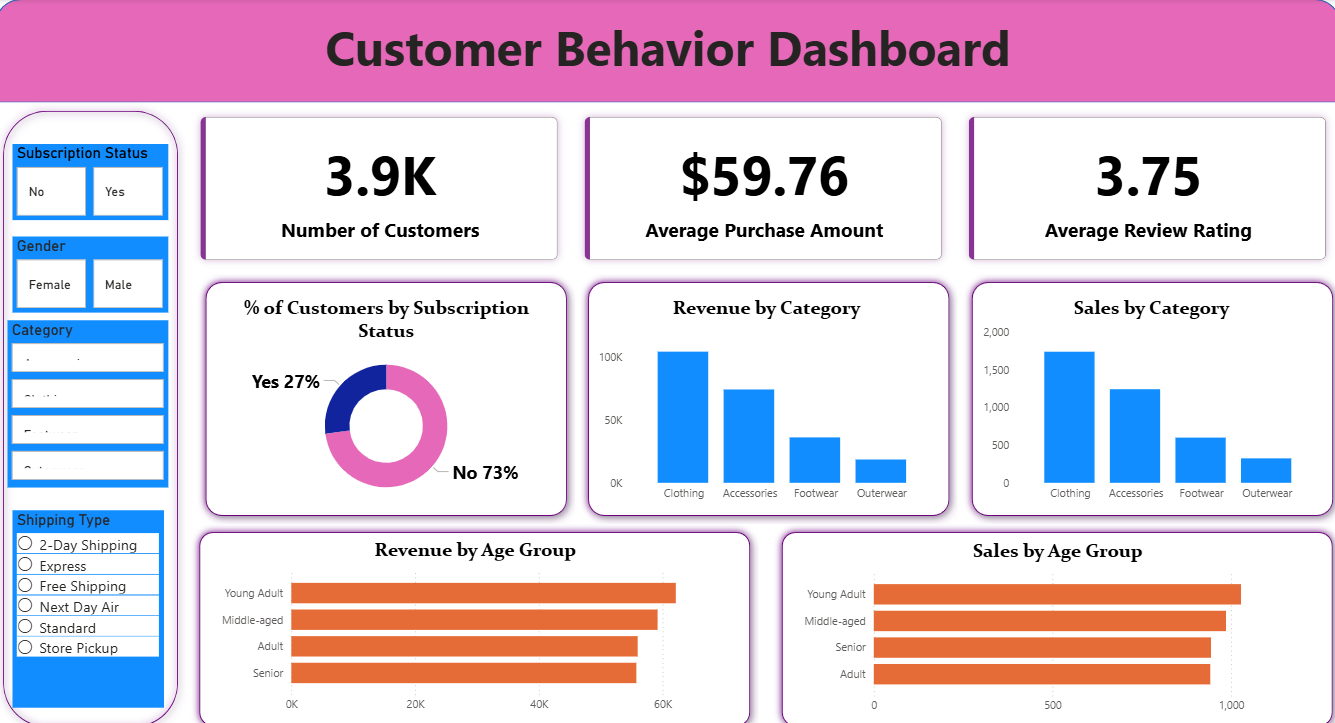

The page's visual inventory and layout, read from the dashboard file:
{"tool":"powerbi","page":{"name":"Page 1","canvas":[1500,820],"ordinal":0},"visuals":[{"type":"cardVisual","fields":{"Data":["public customer.Number of Customers","public customer.Average Purchase Amount","public customer.Average Review Rating"]},"box":[212.9,115.3,1286.5,191.6],"z":2000},{"type":"shape","box":[218.3,585.6,631.7,234.2],"z":2500,"group":"g1"},{"type":"shape","box":[0,0,1499.4,115.3],"z":3000},{"type":"textbox","box":[0,12.4,1499.4,102.9],"z":4000},{"type":"shape","box":[225.4,307,420.5,278.6],"z":5000},{"type":"donutChart","title":"% of Customers by Subscription Status","fields":{"Category":["public customer.subscription_status"],"Y":["Sum(public customer.customer_id)"]},"box":[248.4,331.8,376.2,237.8],"z":6000},{"type":"shape","box":[1078.9,307,420.5,278.6],"z":7000},{"type":"shape","box":[652.1,307,420.5,278.6],"z":8000},{"type":"clusteredColumnChart","title":"Revenue by Category","fields":{"Y":["Sum(public customer.purchase_amount)"],"Category":["public customer.category"]},"box":[667.2,331.8,385.1,237.8],"z":9000},{"type":"clusteredColumnChart","title":"Sales by Category","fields":{"Y":["Sum(public customer.customer_id)"],"Category":["public customer.category"]},"box":[1096.6,331.8,385.1,237.8],"z":10000},{"type":"shape","box":[0,115.3,212.9,704.5],"z":11000},{"type":"advancedSlicerVisual","fields":{"Values":["public customer.subscription_status"]},"box":[19.5,161.5,173.9,85.2],"z":12000},{"type":"advancedSlicerVisual","fields":{"Values":["public customer.gender"]},"box":[19.5,264.4,173.9,85.2],"z":13000},{"type":"advancedSlicerVisual","fields":{"Values":["public customer.category"]},"box":[14.2,358.4,179.2,186.3],"z":14000},{"type":"listSlicer","fields":{"Values":["public customer.shipping_type"]},"box":[19.5,569.6,168.6,220],"z":15000},{"type":"shape","box":[867.7,585.6,631.7,234.2],"z":16000},{"type":"clusteredBarChart","title":"Sales by Age Group","fields":{"Y":["Sum(public customer.customer_id)"],"Category":["public customer.age_group"]},"box":[890.8,601.5,585.6,204.1],"z":17000},{"type":"clusteredBarChart","title":"Revenue by Age Group","fields":{"Y":["Sum(public customer.purchase_amount)"],"Category":["public customer.age_group"]},"box":[241.4,601.6,585.6,204.1],"z":17500,"group":"g1"},{"type":"group","id":"g1","title":"Group 1","box":[218.3,585.6,631.7,234.2],"z":17501}]}

Visuals, with their boxes in screenshot pixels (x1, y1, x2, y2), scaled from the page's 1500x820 canvas onto the 1335x723 screenshot:
cardVisual - public customer.Number of Customers x public customer.Average Purchase Amount: x1=189 y1=102 x2=1334 y2=271
shape: x1=194 y1=516 x2=756 y2=722
shape: x1=0 y1=0 x2=1334 y2=102
textbox: x1=0 y1=11 x2=1334 y2=102
shape: x1=201 y1=271 x2=575 y2=516
"% of Customers by Subscription Status" donutChart: x1=221 y1=293 x2=556 y2=502
shape: x1=960 y1=271 x2=1334 y2=516
shape: x1=580 y1=271 x2=955 y2=516
"Revenue by Category" clusteredColumnChart: x1=594 y1=293 x2=937 y2=502
"Sales by Category" clusteredColumnChart: x1=976 y1=293 x2=1319 y2=502
shape: x1=0 y1=102 x2=189 y2=722
advancedSlicerVisual - public customer.subscription_status: x1=17 y1=142 x2=172 y2=218
advancedSlicerVisual - public customer.gender: x1=17 y1=233 x2=172 y2=308
advancedSlicerVisual - public customer.category: x1=13 y1=316 x2=172 y2=480
listSlicer - public customer.shipping_type: x1=17 y1=502 x2=167 y2=696
shape: x1=772 y1=516 x2=1334 y2=722
"Sales by Age Group" clusteredBarChart: x1=793 y1=530 x2=1314 y2=710
"Revenue by Age Group" clusteredBarChart: x1=215 y1=530 x2=736 y2=710
"Group 1" group: x1=194 y1=516 x2=756 y2=722
